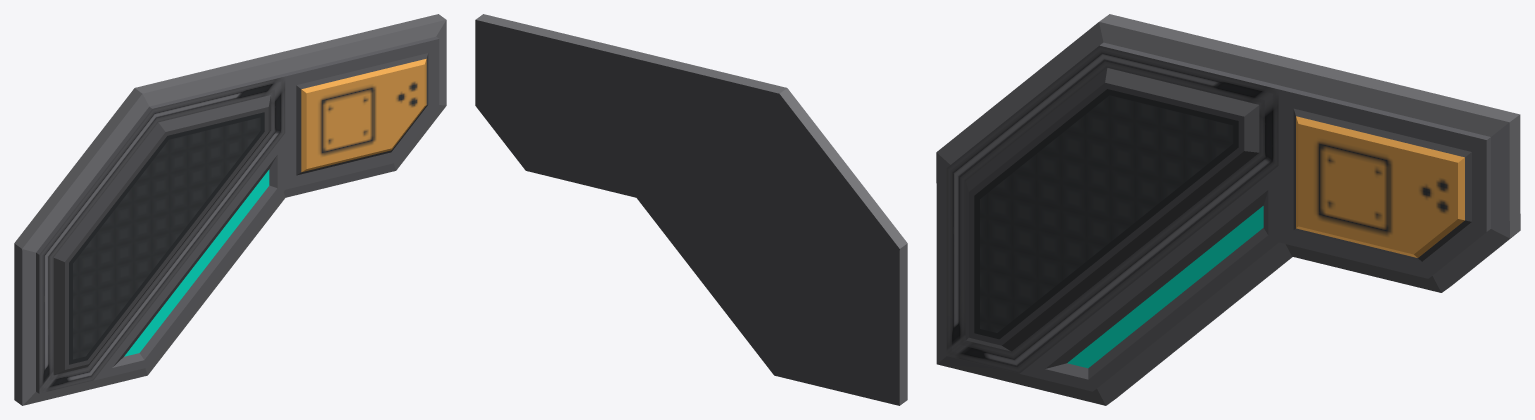
Rendered from SM_Prop_Greebles_14.fbx.
3 views of the same model, side by side, from view 1: azimuth 30°, elevation 25°; view 2: azimuth 150°, elevation 25°; view 3: azimuth 330°, elevation 25° (orthographic). The views are drawn at different scales.
Visible parts, largest first — view 1: SM_Prop_Greebles_14; view 2: SM_Prop_Greebles_14; view 3: SM_Prop_Greebles_14.
Boxes of the visible parts, <box> form: SM_Prop_Greebles_14: <box>14,14,446,405</box>; SM_Prop_Greebles_14: <box>475,14,907,405</box>; SM_Prop_Greebles_14: <box>936,14,1520,405</box>.
Size of the model in its own units: 278 by 177 by 19.54.
